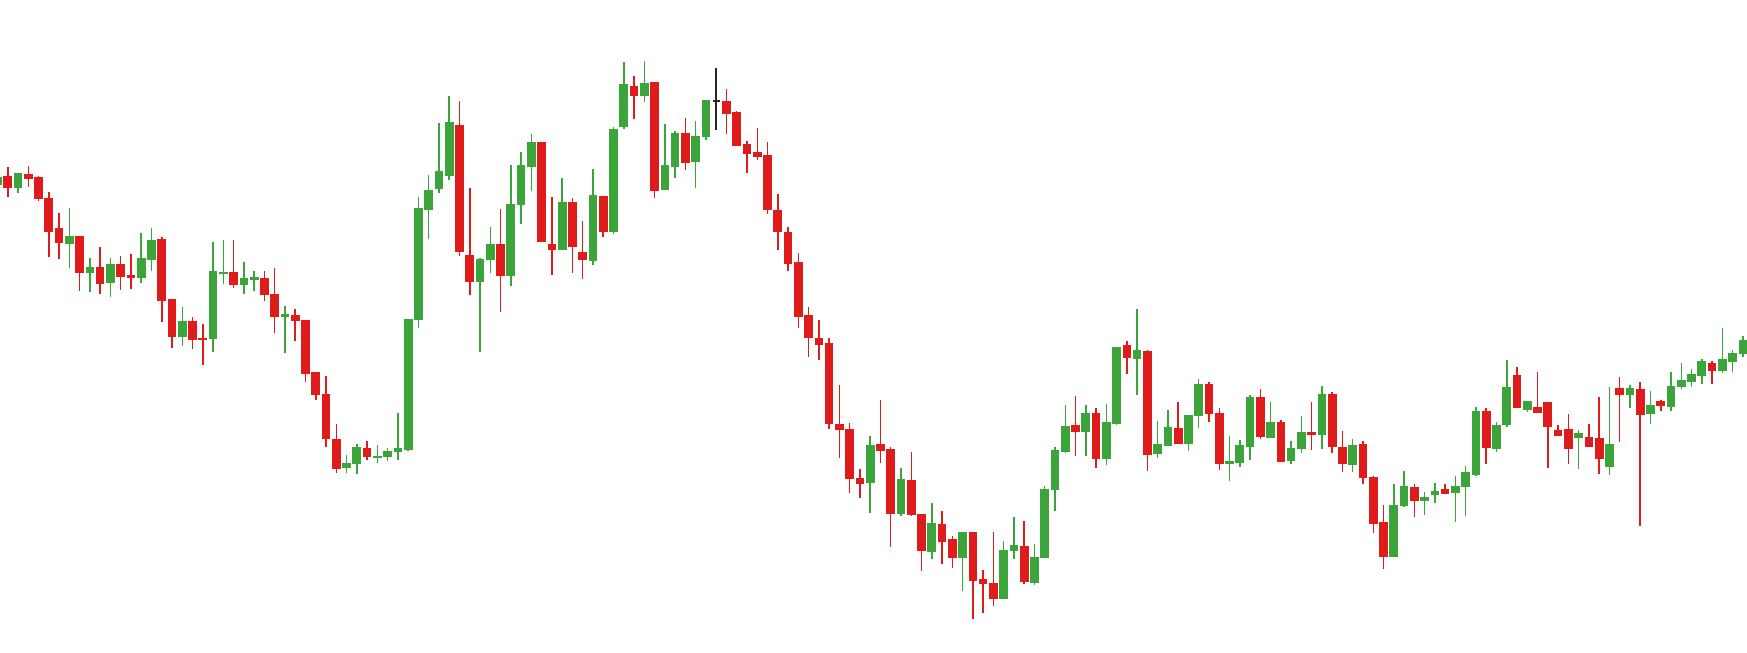sell: (441, 64, 638, 220)
